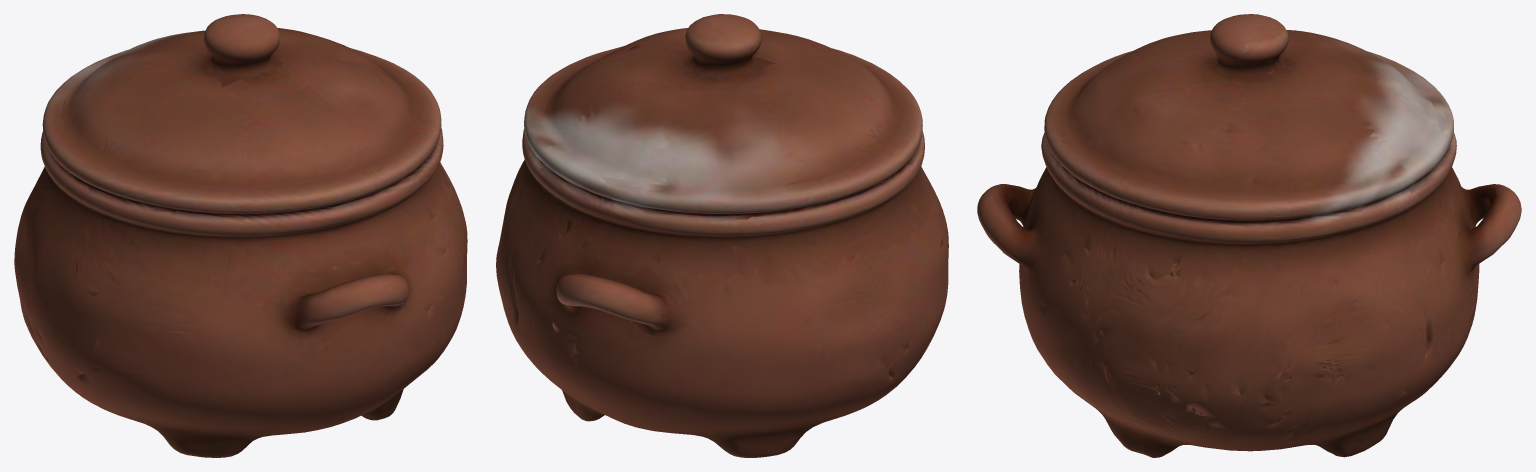
The model's file is KR_사물_s1_pat_pot.glb.
The picture shows the model from 3 angles, left to right: view 1: azimuth 30°, elevation 25°; view 2: azimuth 150°, elevation 25°; view 3: azimuth 270°, elevation 25°; orthographic projection. The views are drawn at different scales.
Parts seen in each view (by area): view 1: tripo_node_7d40568a-d36d-4cd9-986a-f4d6c41db422; view 2: tripo_node_7d40568a-d36d-4cd9-986a-f4d6c41db422; view 3: tripo_node_7d40568a-d36d-4cd9-986a-f4d6c41db422.
Boxes of the visible parts, <box> form: tripo_node_7d40568a-d36d-4cd9-986a-f4d6c41db422: <box>14,14,467,457</box>; tripo_node_7d40568a-d36d-4cd9-986a-f4d6c41db422: <box>496,14,948,457</box>; tripo_node_7d40568a-d36d-4cd9-986a-f4d6c41db422: <box>977,14,1521,457</box>.
Bounding box in the file's own units: 0.8396 × 0.7624 × 0.9812.
1 material, 1 textured.
